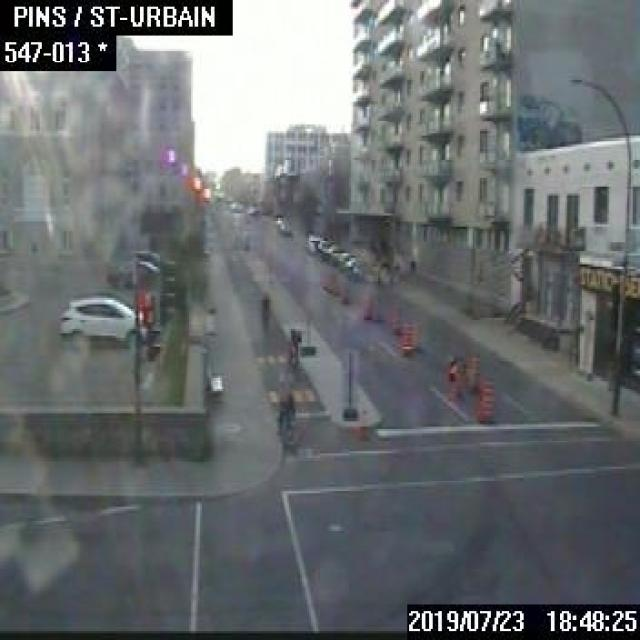construction: (462, 346, 480, 393), (445, 354, 463, 400), (476, 376, 494, 422), (400, 317, 414, 351), (361, 289, 372, 320), (340, 280, 349, 303)
cyclist: (273, 388, 295, 442), (285, 329, 300, 367), (258, 293, 269, 338)
vehicle: (58, 292, 148, 340), (106, 257, 166, 285), (124, 248, 173, 272), (330, 247, 354, 265), (344, 254, 365, 274), (304, 231, 325, 250), (317, 240, 338, 258), (278, 220, 290, 234), (246, 206, 258, 216)
